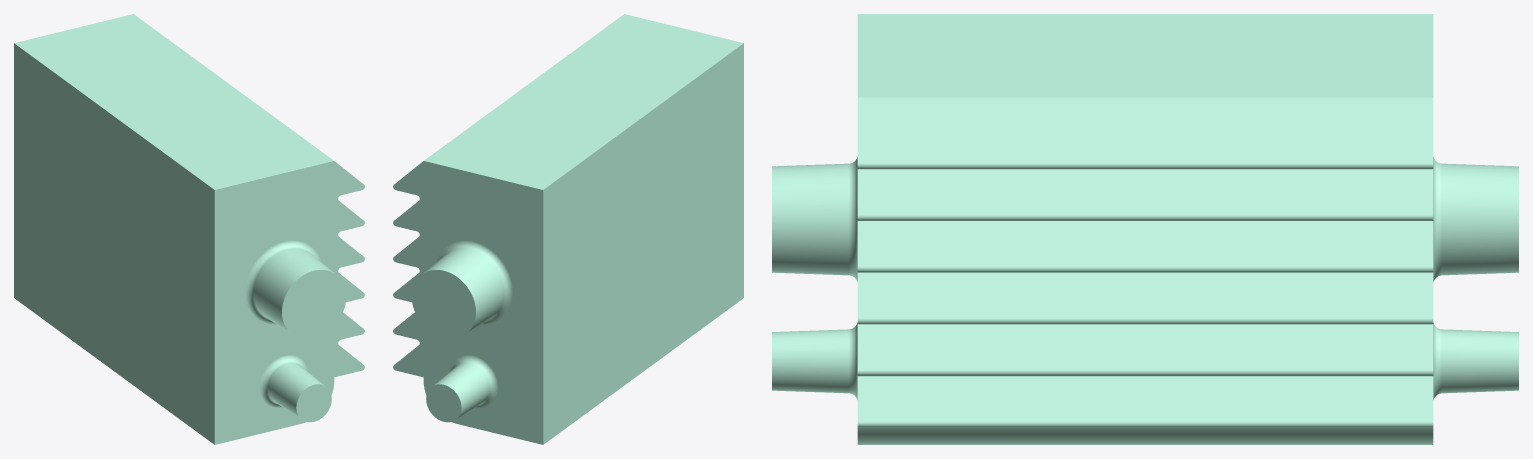
File: CVRTopHoldOpen.gltf
The picture shows the model from 3 angles, left to right: view 1: azimuth 30°, elevation 25°; view 2: azimuth 150°, elevation 25°; view 3: azimuth 270°, elevation 25°; orthographic projection. The views are drawn at different scales.
Visible parts, largest first — view 1: 68-0018; view 2: 68-0018; view 3: 68-0018.
Boxes of the visible parts, x1,y1,x2,y2 form: 68-0018: (14,14,364,444); 68-0018: (393,14,743,444); 68-0018: (772,14,1518,444).
Size of the model in its own units: 0.00686 by 0.0111 by 0.0206.
